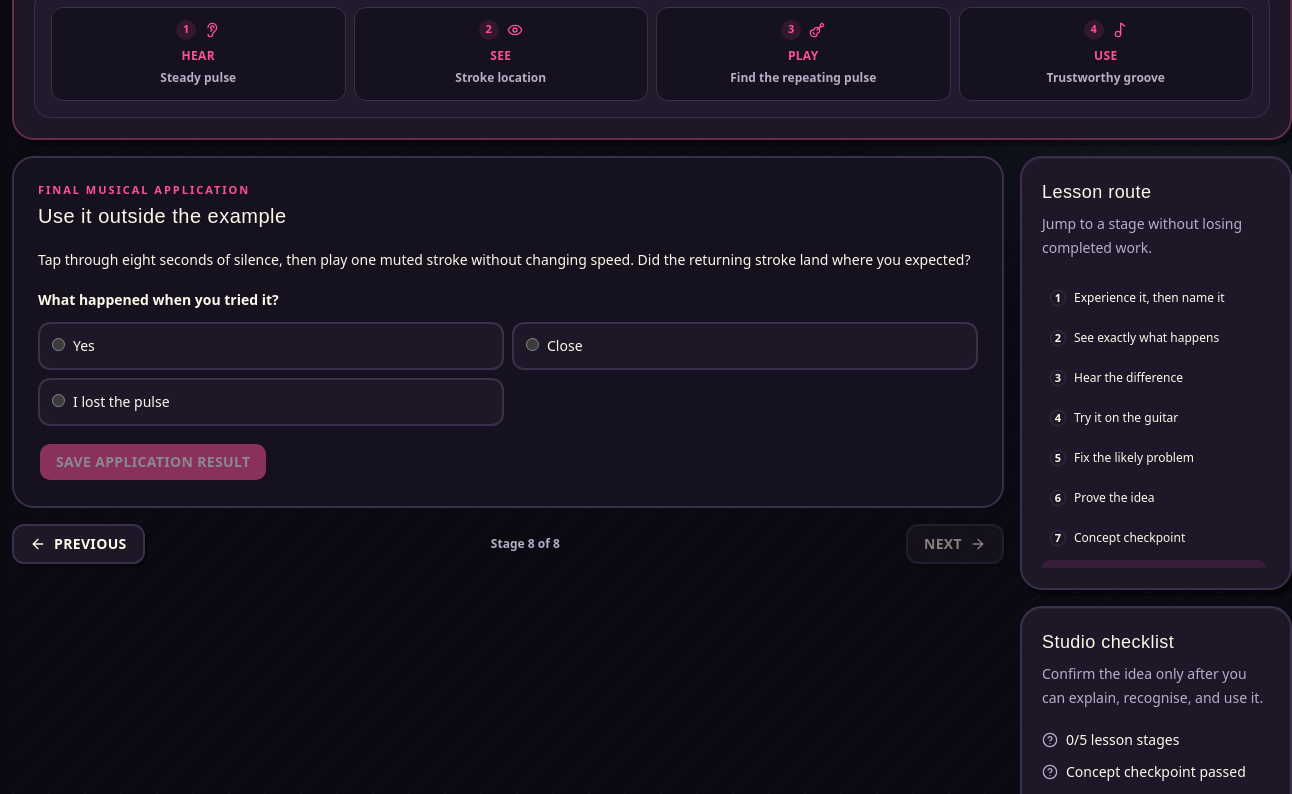
Test: LessonRenderer authored flow › records every honest musical-application outcome
(page scrolled)
Click the radio button labelled "I lost the pulse". click: x=58, y=400
box: [52,394,65,407]
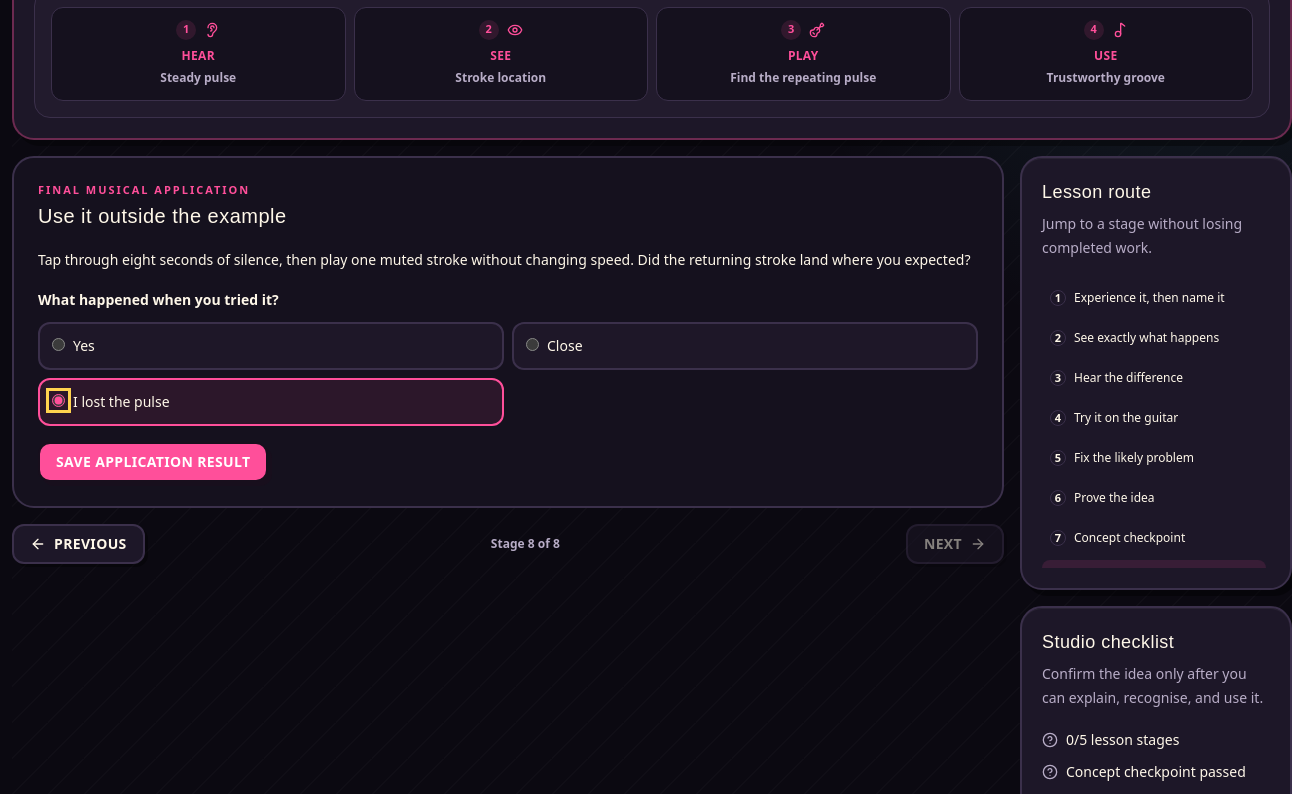
Click the button "Save application result". click: x=153, y=462
box: [38,442,268,482]
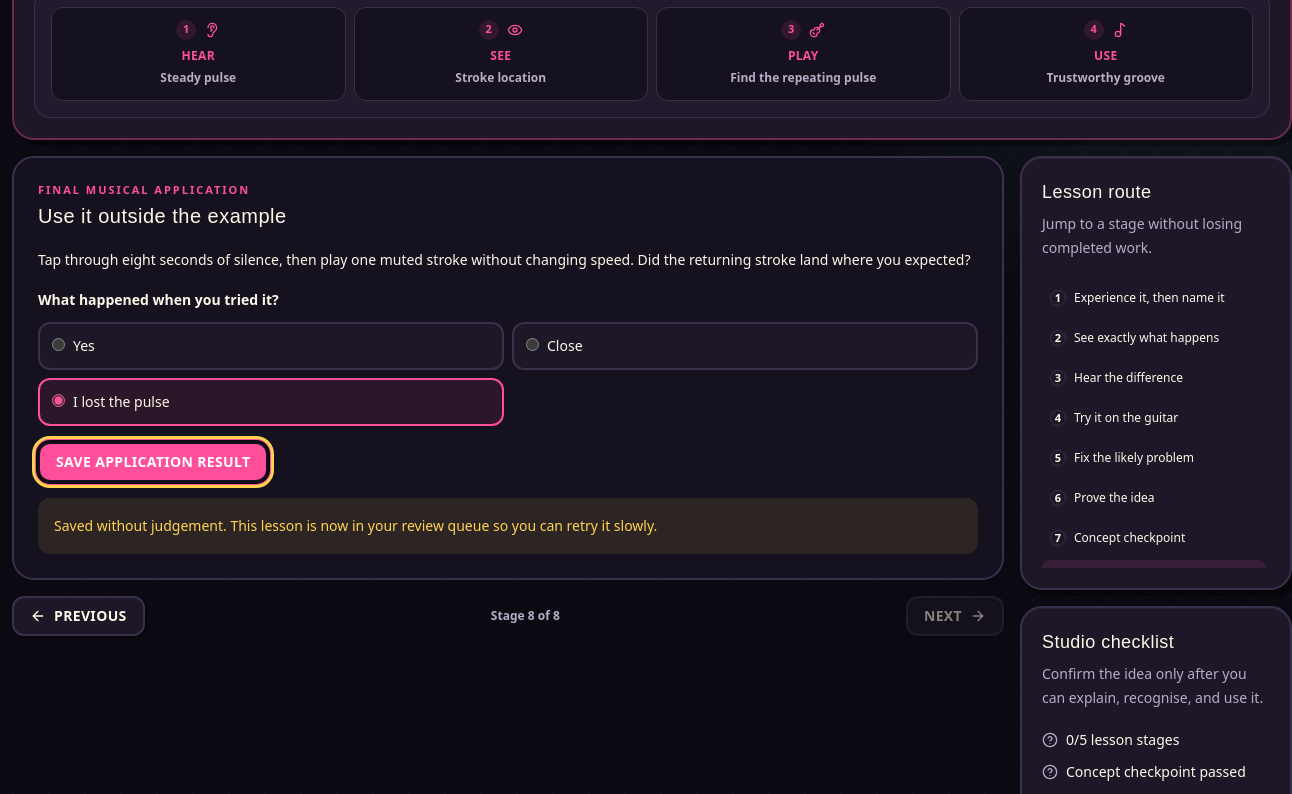
Check: the text "review queue so you can retry it slowly" is shown, box [54,516,657,535]
